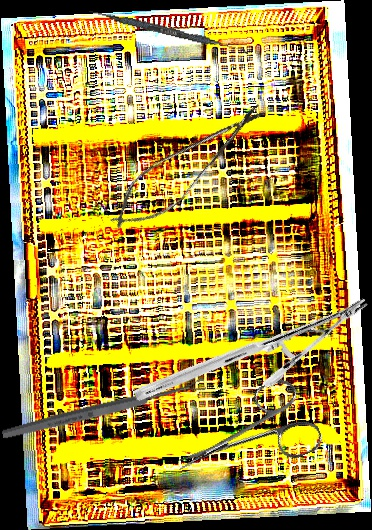Iris Scissors: (161, 372, 327, 504)
Micro Scissor: (97, 86, 278, 246)
Needle Holder: (130, 222, 372, 477)
Spatula Surgical: (88, 8, 250, 55)
Surgical Spoon: (0, 377, 208, 442)
